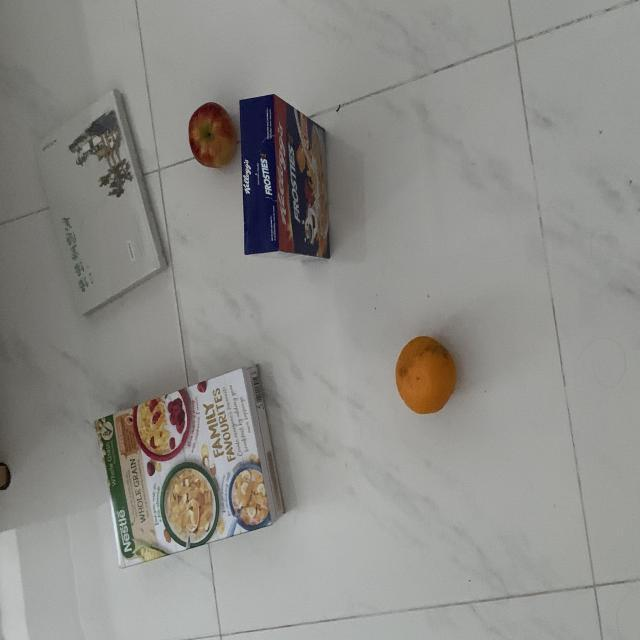Apple: (186, 98, 240, 170)
Book: (32, 90, 172, 324)
Cerealbox: (94, 359, 288, 573), (237, 90, 335, 264)
Orange: (395, 332, 460, 416)
